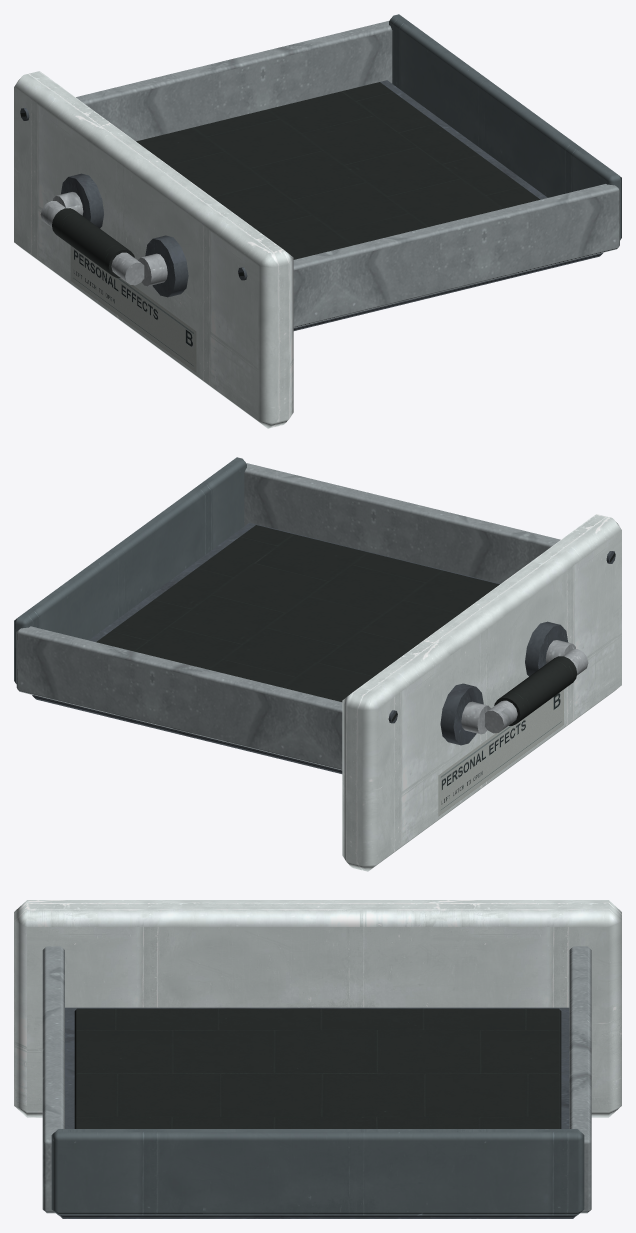
File: prop_locker_drawer.fbx
3 renders of one model, top to bottom at view 1: azimuth 30°, elevation 25°; view 2: azimuth 150°, elevation 25°; view 3: azimuth 270°, elevation 25°, orthographic. The views are drawn at different scales.
Parts seen in each view (by area): view 1: SM_prop_locker_drawer; view 2: SM_prop_locker_drawer; view 3: SM_prop_locker_drawer.
Boxes of the visible parts, x1,y1,x2,y2 form: SM_prop_locker_drawer: [14, 14, 621, 428]; SM_prop_locker_drawer: [14, 457, 621, 871]; SM_prop_locker_drawer: [14, 900, 621, 1218].
Bounding box in the file's own units: 0.7188 × 0.28 × 0.741.
7 materials, 7 textured.
